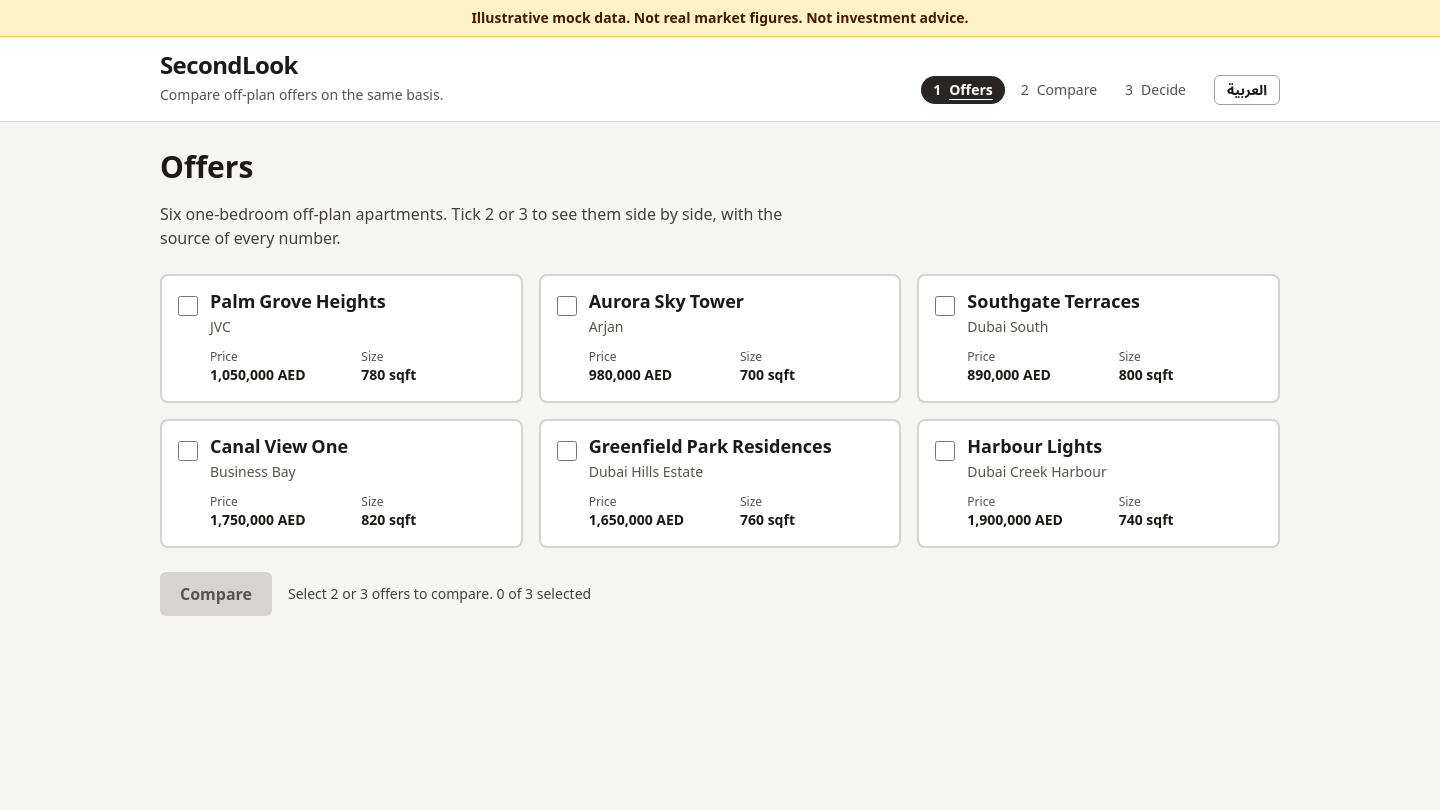
Test: language switch › switches the whole interface to Arabic, right to left, and back
What coordinates should you click on to do the following:
click the button "العربية"
I would click on:
 (1247, 90)
Its box is [1214,75,1280,105].
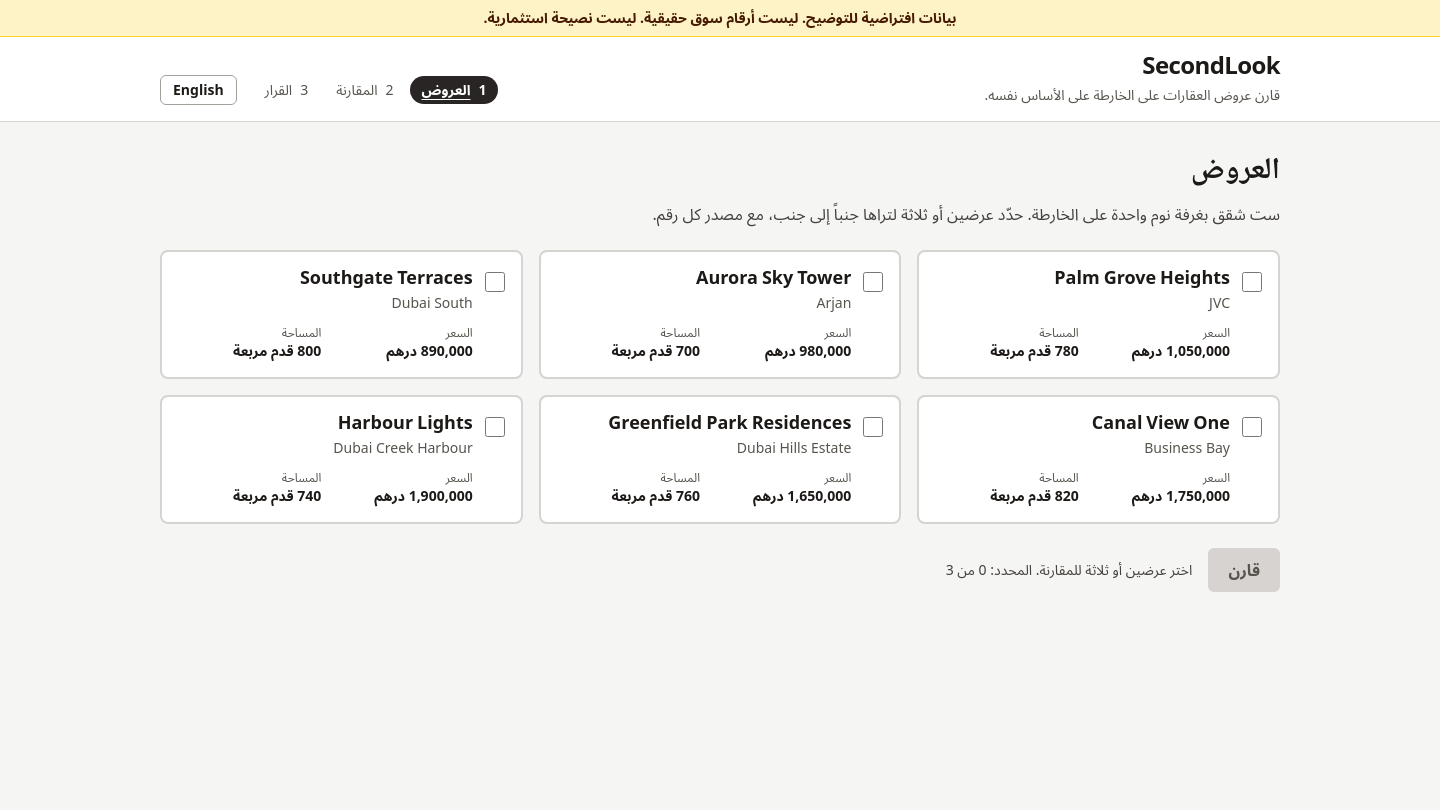
Now the text "العروض" is shown, box [422,80,470,100]
Now the text "بيانات افتراضية للتوضيح. ليست أرقام سوق حقيقية. ليست نصيحة استثمارية." is shown, box [0,0,1439,37]
Now the text "Illustrative mock data. Not real market figures. Not investment advice." is gone
What coordinates should you click on to do the following:
click the button "English"
I would click on:
 (198, 90)
Its box is [160,75,237,105].
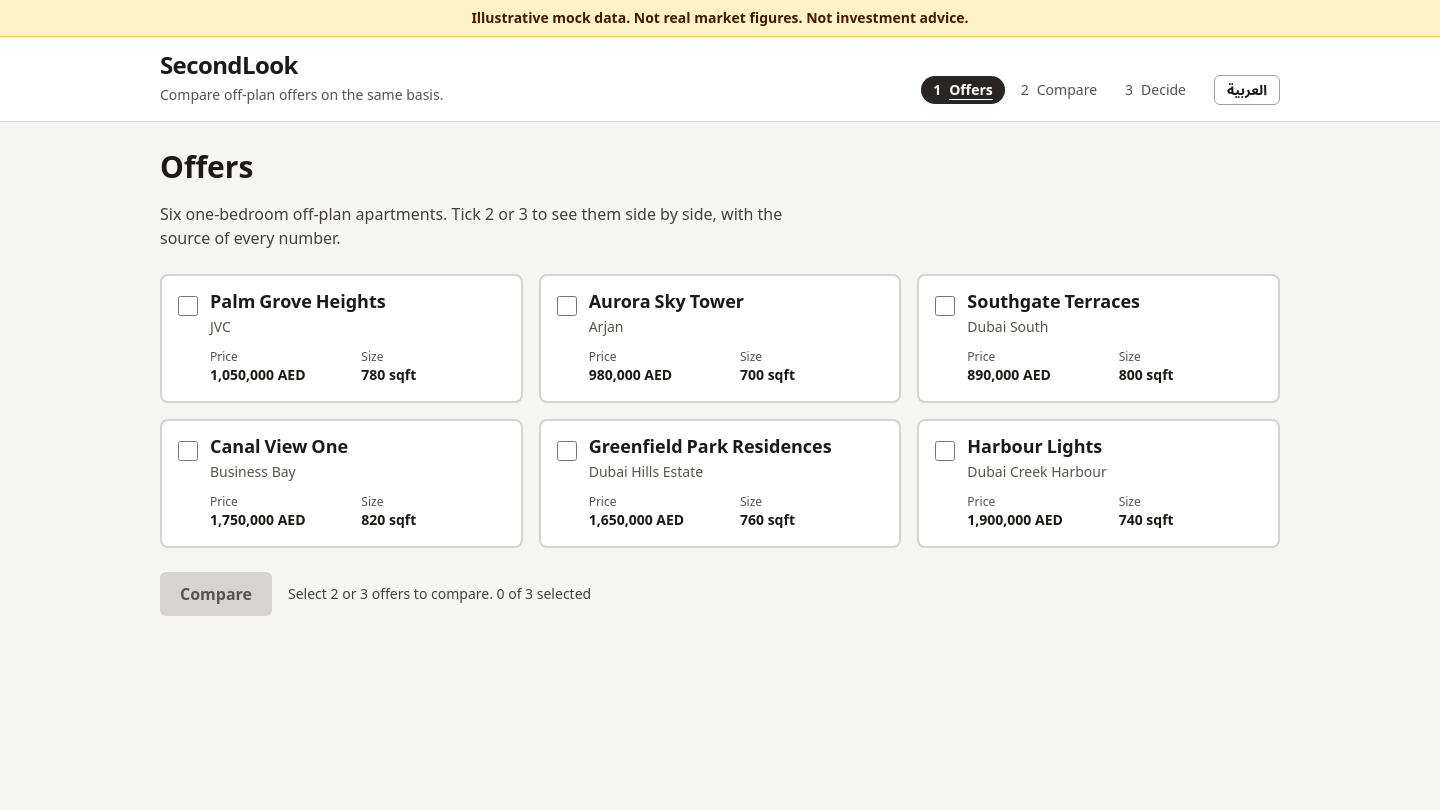
Now the text "Offers" is shown, box [949,80,993,100]
Now the text "Illustrative mock data. Not real market figures. Not investment advice." is shown, box [0,0,1439,37]
